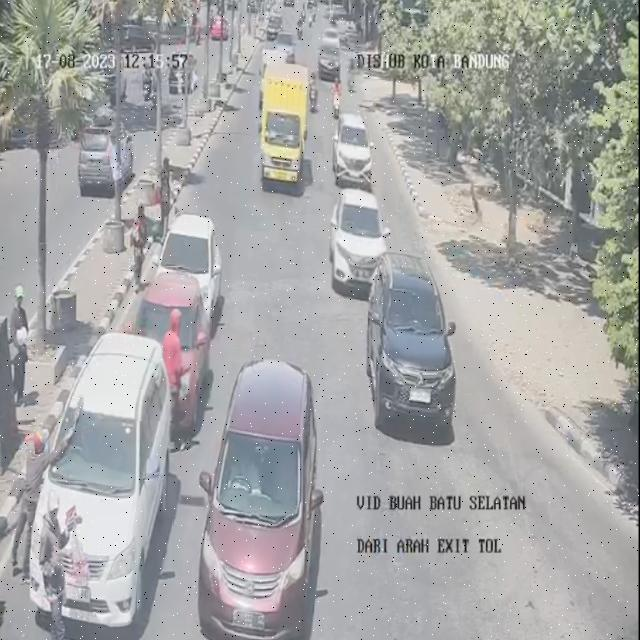cars: (35, 335, 174, 620), (192, 362, 322, 636), (374, 256, 448, 426), (136, 269, 212, 421), (322, 183, 391, 299), (162, 215, 229, 309), (339, 109, 368, 184), (321, 46, 343, 80), (275, 35, 294, 64), (324, 24, 339, 48)
motorcycle: (328, 71, 344, 127), (308, 68, 321, 118), (345, 59, 363, 90)
truck: (256, 67, 314, 194)
